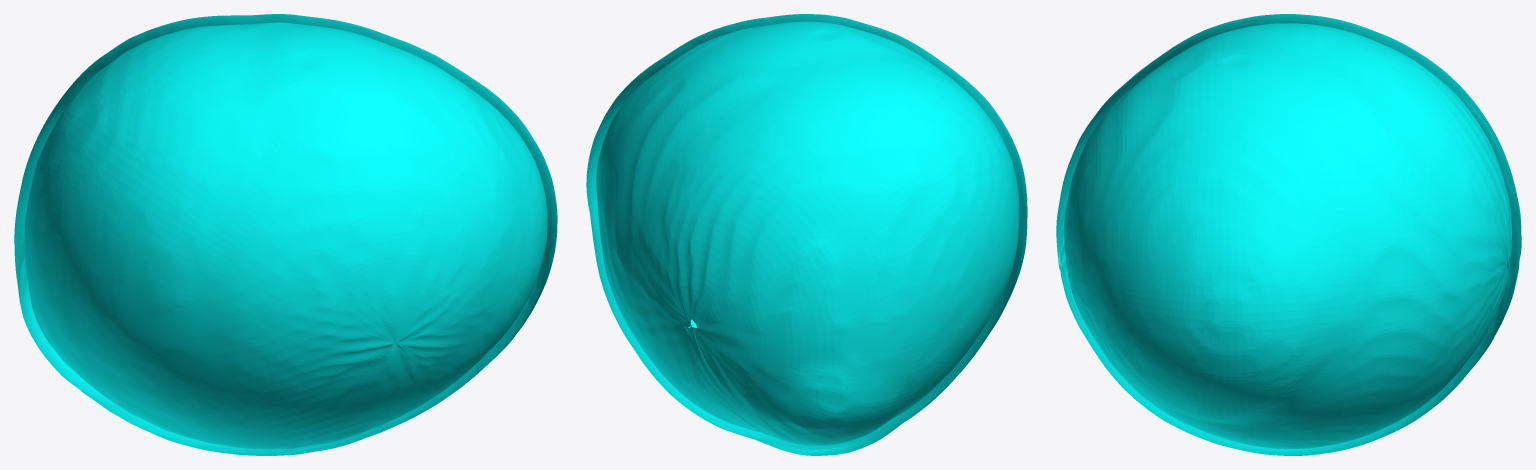
The picture shows the model from 3 angles, left to right: view 1: azimuth 30°, elevation 25°; view 2: azimuth 150°, elevation 25°; view 3: azimuth 270°, elevation 25°; orthographic projection. The views are drawn at different scales.
Parts seen in each view (by area): view 1: Renderer Node; view 2: Renderer Node; view 3: Renderer Node.
Boxes of the visible parts, x1,y1,x2,y2 form: Renderer Node: (14,14,557,455); Renderer Node: (586,14,1027,455); Renderer Node: (1056,14,1521,455).
Bounding box in the file's own units: 1.67e+10 × 1.43e+10 × 1.56e+10.
